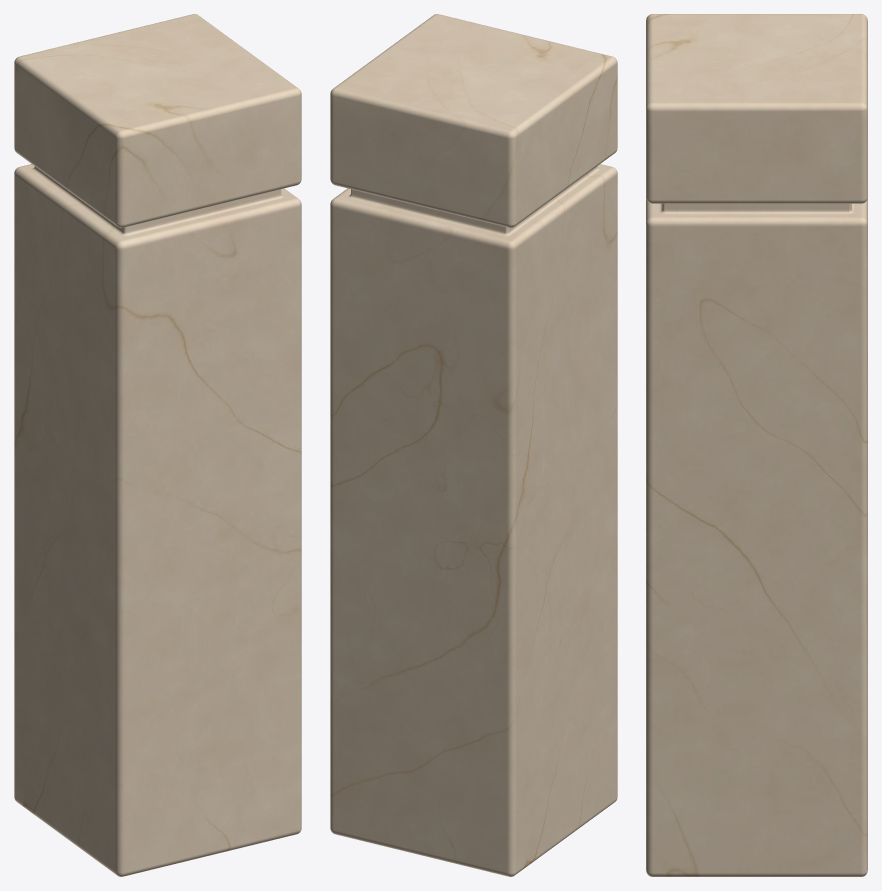
The model's file is king-white-hd.glb.
The picture shows the model from 3 angles, left to right: view 1: azimuth 30°, elevation 25°; view 2: azimuth 150°, elevation 25°; view 3: azimuth 270°, elevation 25°; orthographic projection. The views are drawn at different scales.
Visible parts, largest first — view 1: kral_bily; view 2: kral_bily; view 3: kral_bily.
Boxes of the visible parts, x1,y1,x2,y2 form: kral_bily: [14, 14, 301, 876]; kral_bily: [330, 14, 617, 876]; kral_bily: [646, 14, 867, 876].
Size of the model in its own units: 0.4287 by 1.65 by 0.4287.
Materials: 1 (1 with a texture image).
